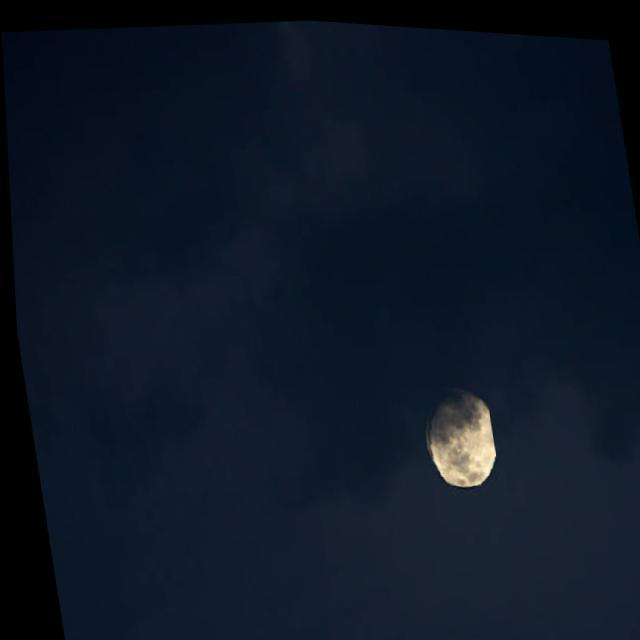moon: (412, 378, 496, 484)
